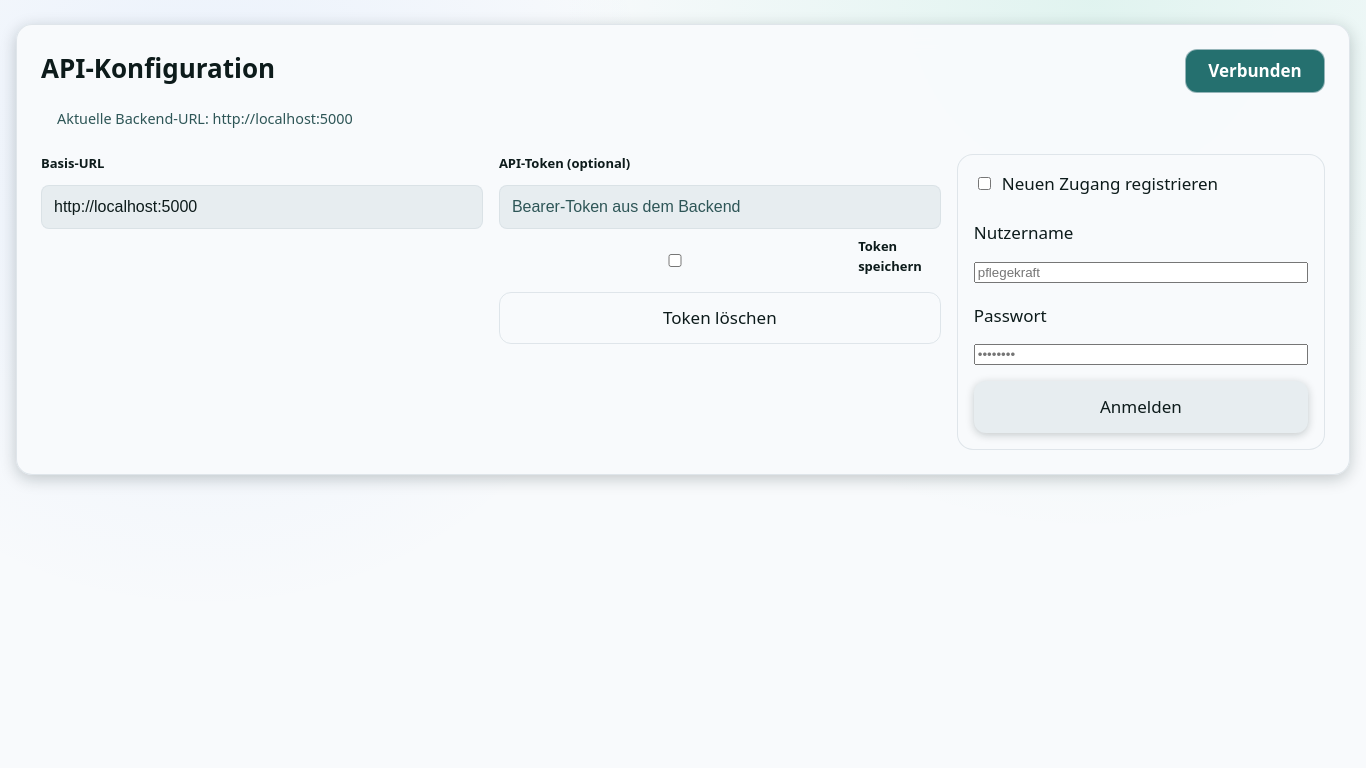
Scenario: ApiConfigBar authentication helpers › surfaces backend errors when authentication fails
Type "amy" into the field labelled "Nutzername". click: (1141, 272)
box: [974,262,1308,283]
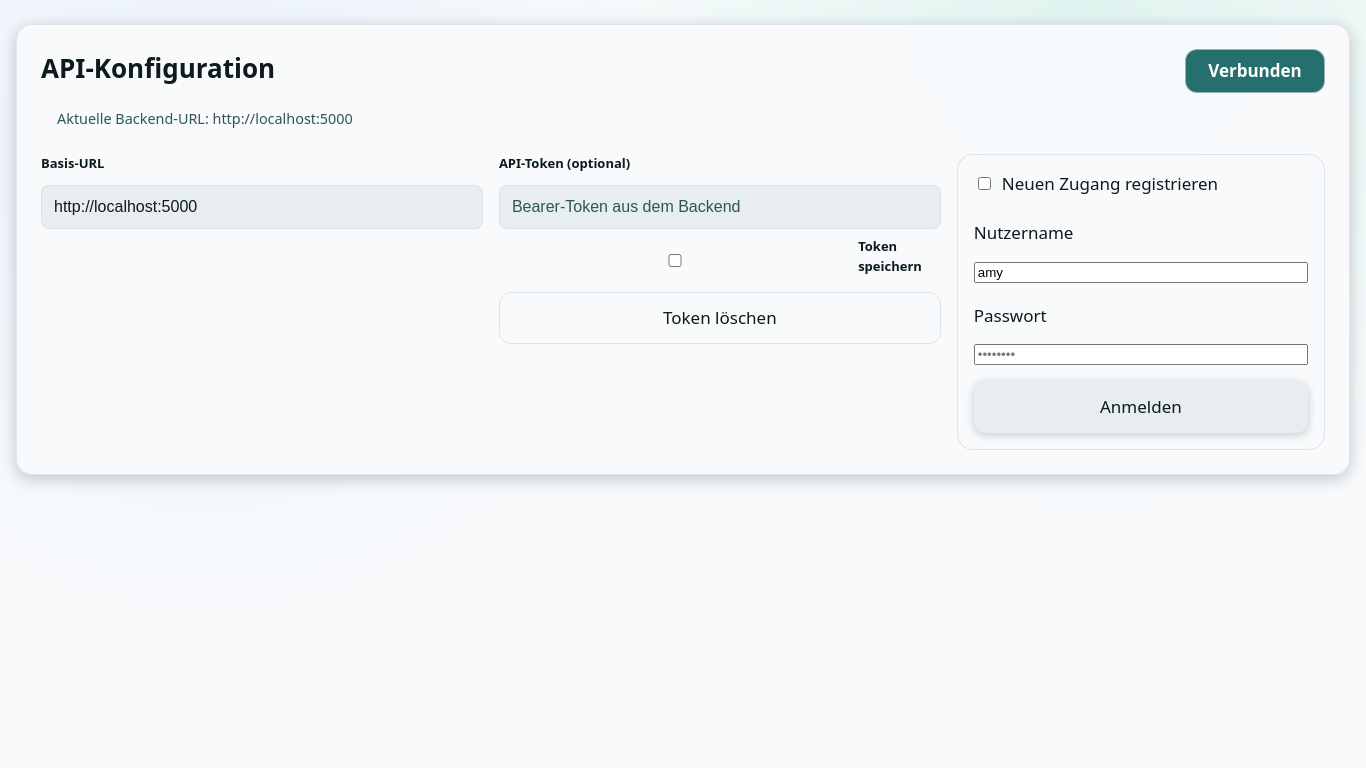
Type "falsch" into the password field labelled "Passwort". click: (1141, 355)
box: [974,344,1308,365]
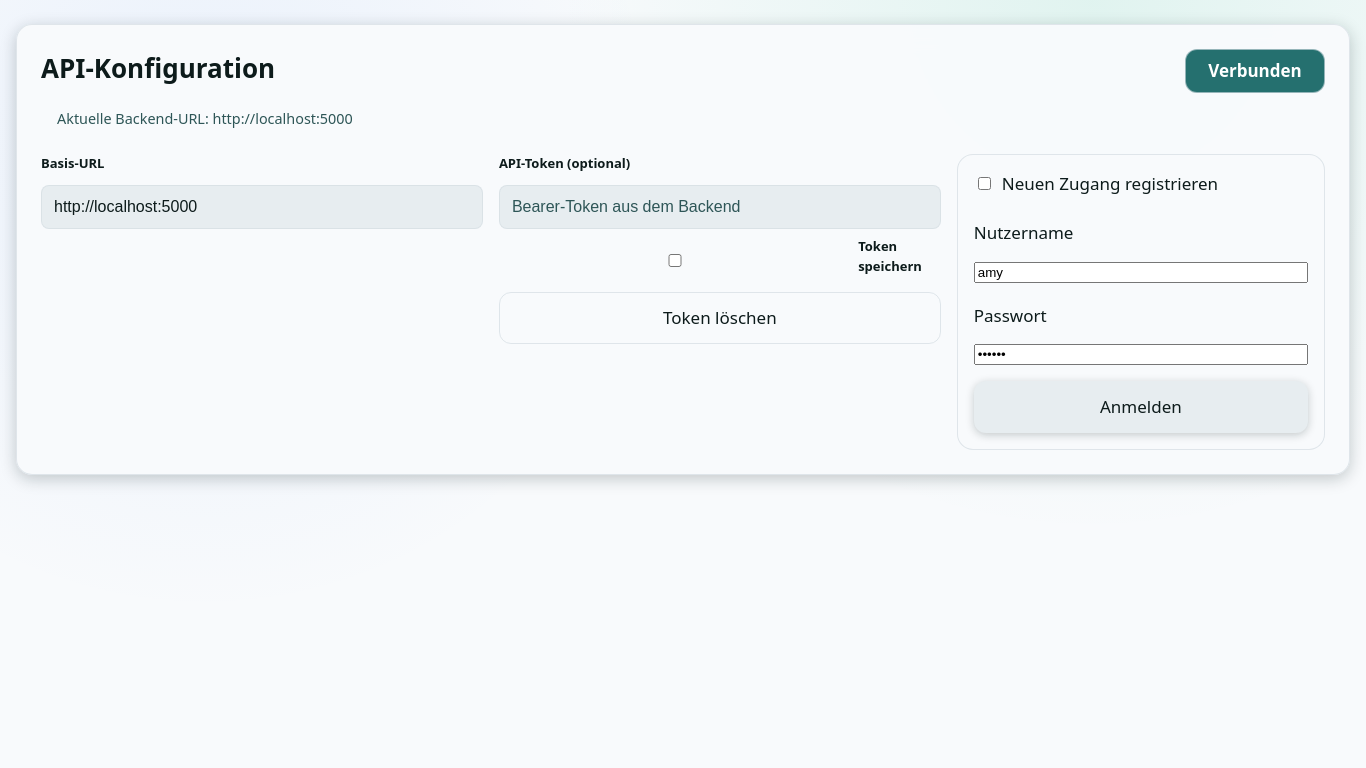
Click the button "Anmelden". click: click(1141, 407)
box: [974,381,1308,433]
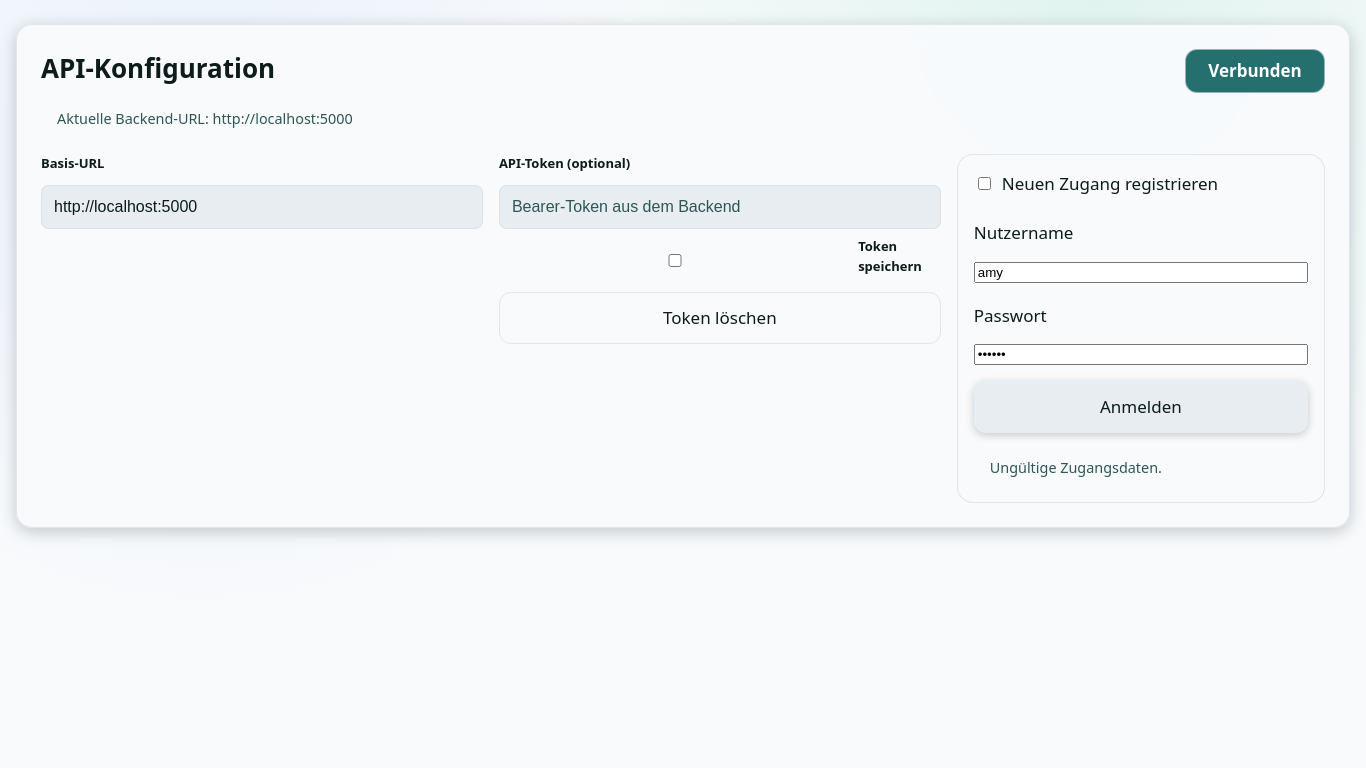
Result: the text "Ungültige Zugangsdaten." is shown at [990,458,1162,477]
